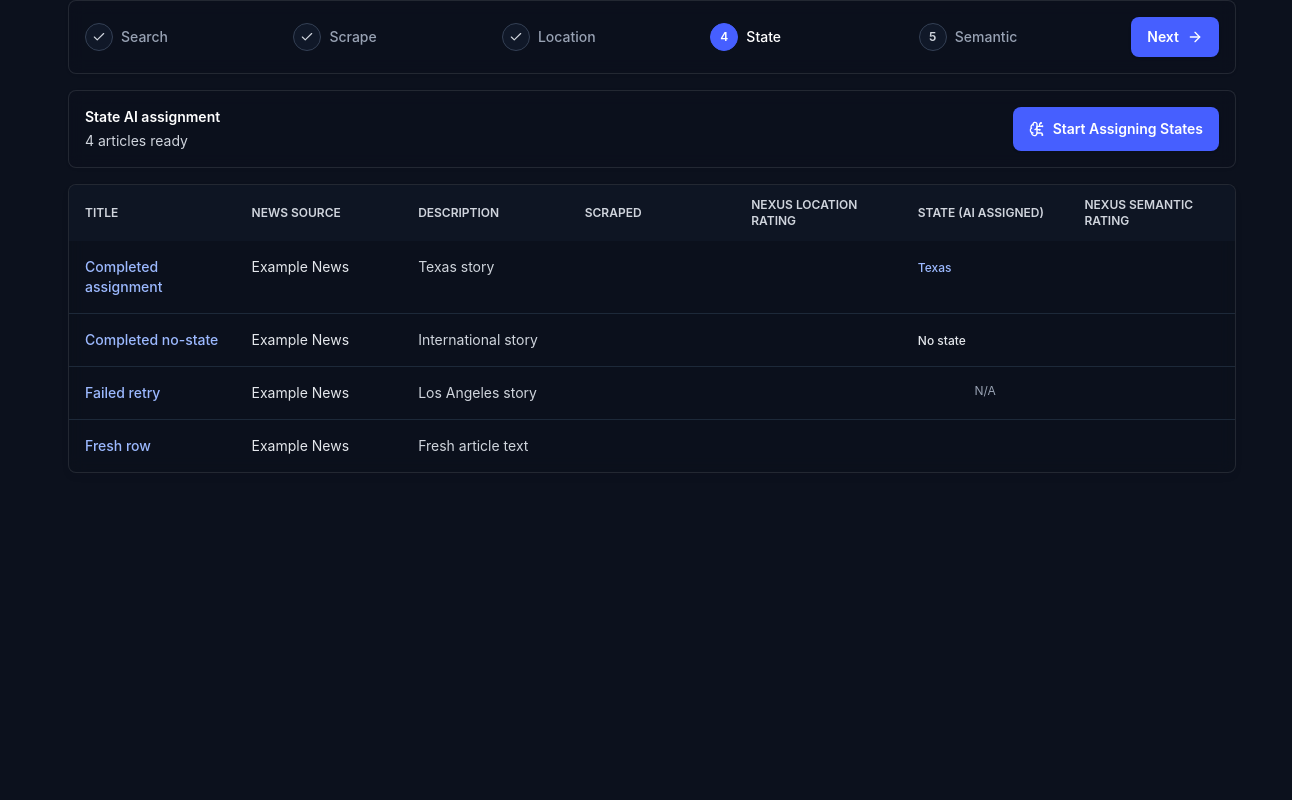
Test: StateBar › excludes completed rerun rows and retries failed or fresh rows only
Click the button "Start Assigning States": [1116, 129] box x1=1013 y1=107 x2=1219 y2=151
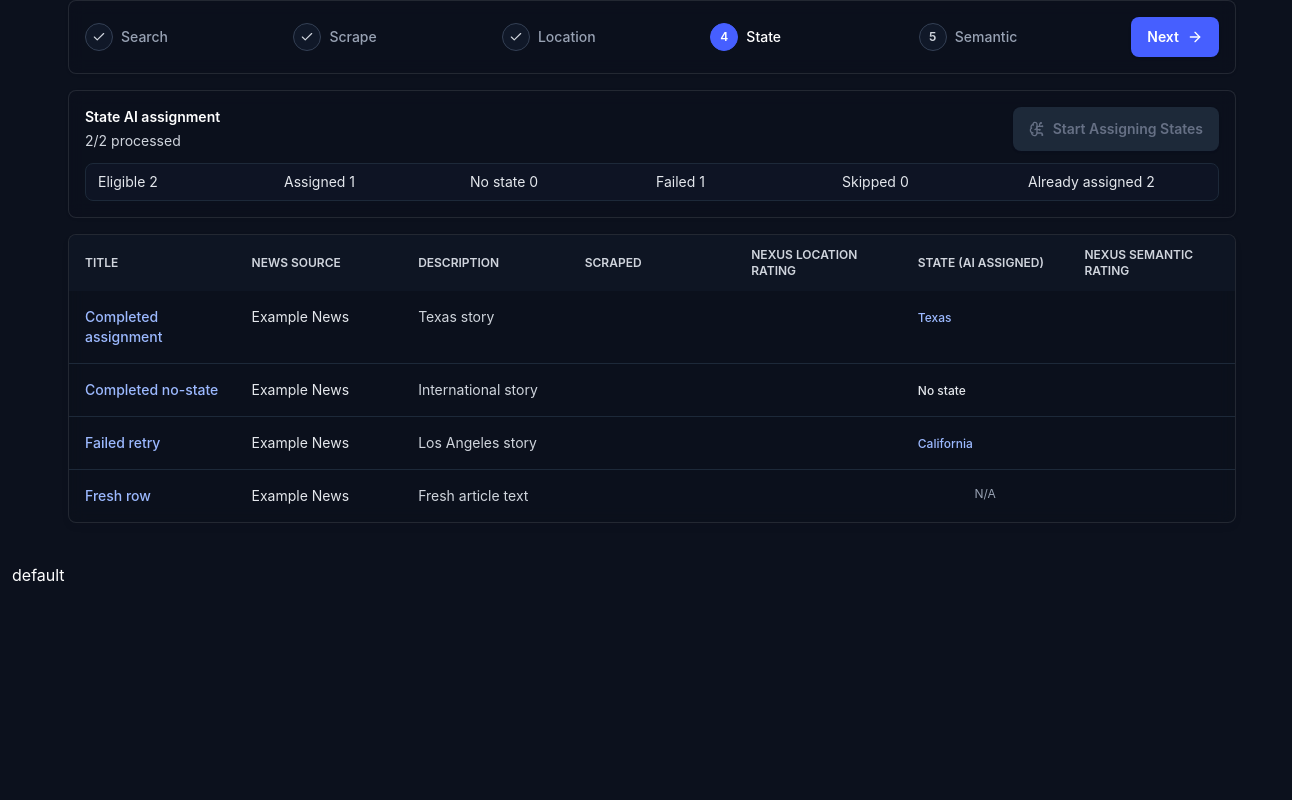
expect the text "Already assigned 2" is shown: met, box x1=1028 y1=173 x2=1155 y2=190
expect the text "California" is shown: met, box x1=918 y1=436 x2=973 y2=451
expect the text "Skipped 0" is shown: met, box x1=842 y1=173 x2=909 y2=190
